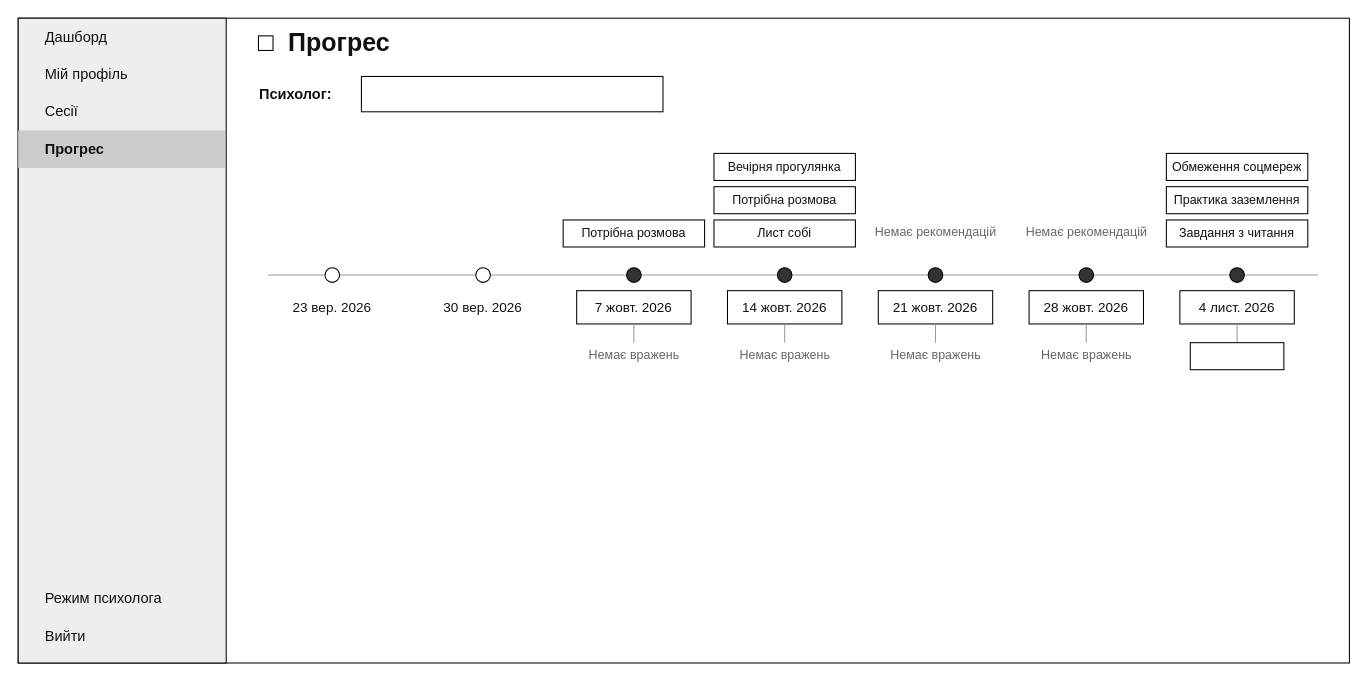
This 1368x681 diagram has some shape labels left out. The box of each missing label's shape, as (x1, y1, x2, y2) in pixels:
Мельниченко Ірина Олегівна ▾: (360, 75, 663, 112)
Щоденник: (1189, 342, 1284, 370)
